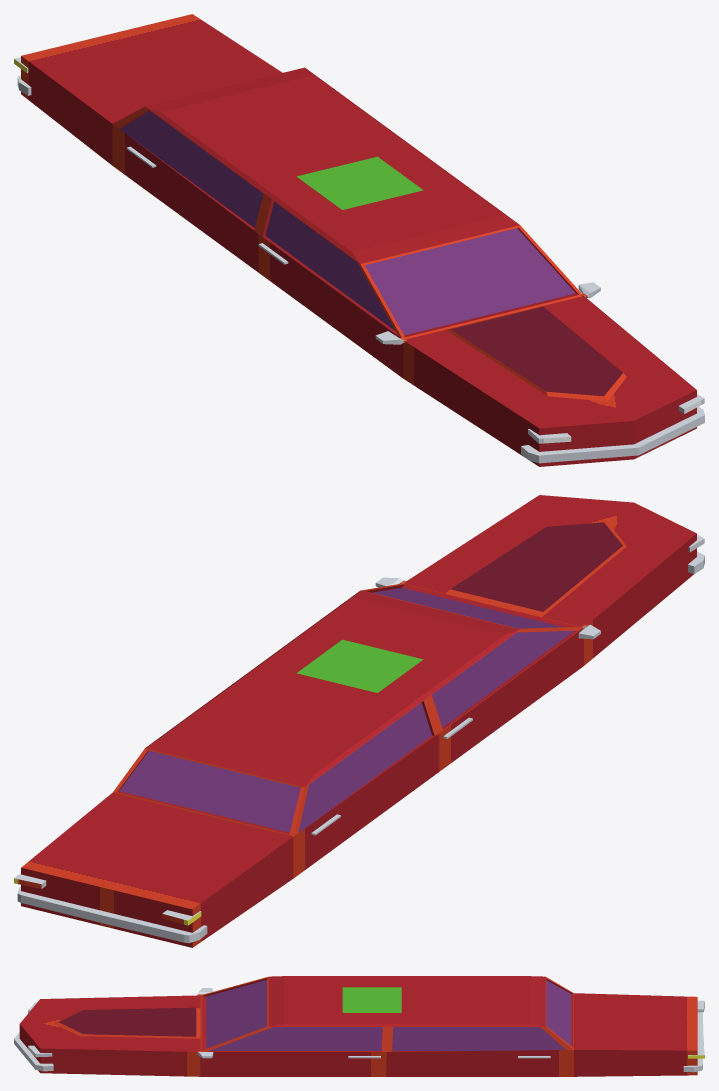
File: cars.glb
3 views of the same model, one above another, from view 1: azimuth 30°, elevation 25°; view 2: azimuth 150°, elevation 25°; view 3: azimuth 270°, elevation 25° (orthographic). The views are drawn at different scales.
Visible parts, largest first — view 1: SedanRed1, CupéGreen1; view 2: SedanRed1, CupéGreen1; view 3: SedanRed1, CupéGreen1.
Part boxes in pixels (box(x1,y1,x2,y2)): SedanRed1: box(14, 14, 704, 466); CupéGreen1: box(296, 156, 422, 209); SedanRed1: box(14, 495, 704, 947); CupéGreen1: box(297, 639, 423, 692); SedanRed1: box(14, 976, 704, 1076); CupéGreen1: box(342, 987, 401, 1012).
Bounding box in the file's own units: 8.51 × 2.84 × 36.34.
2 materials, 2 textured.
